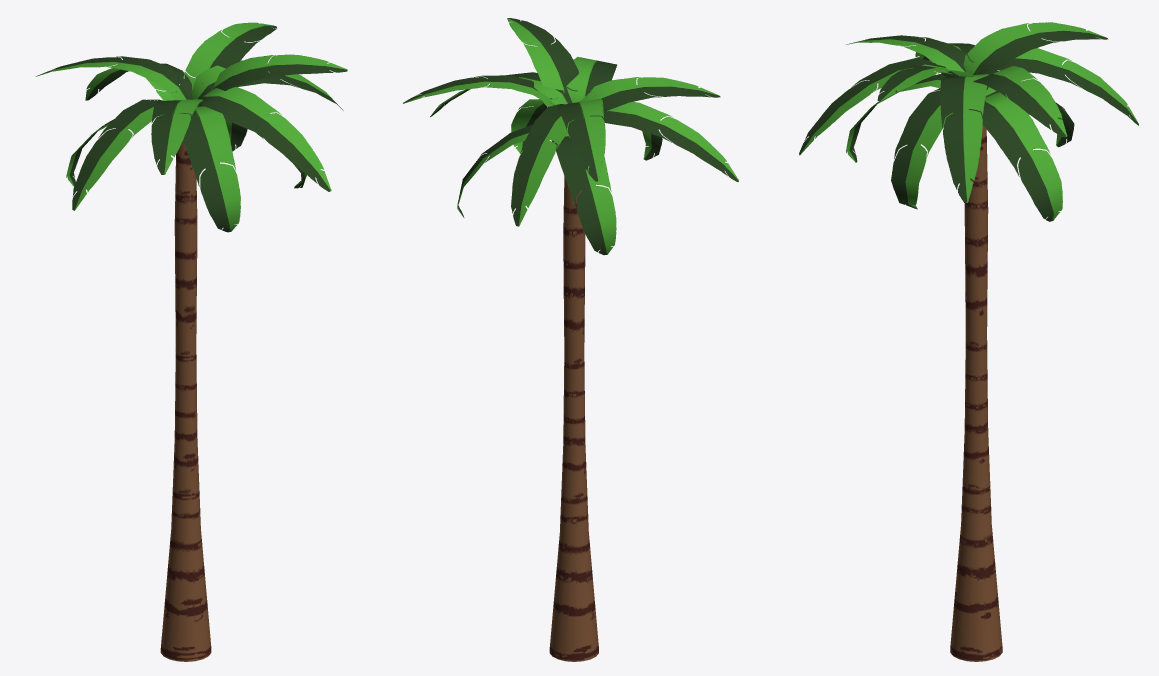
File: palm tree model 1 ver 4.FBX
3 views of the same model, side by side, from view 1: azimuth 30°, elevation 25°; view 2: azimuth 150°, elevation 25°; view 3: azimuth 270°, elevation 25° (orthographic). The views are drawn at different scales.
Visible parts, largest first — view 1: Cylinder001, Plane021, Plane024, Plane022, Plane034, Plane037, Plane035, Plane036, Plane018, Plane023; view 2: Cylinder001, Plane020, Plane023, Plane022, Plane037, Plane036, Plane035, Plane034, Plane024, Plane025, Plane018, Plane019; view 3: Cylinder001, Plane025, Plane018, Plane019, Plane036, Plane023, Plane034, Plane024, Plane035, Plane037, Plane021.
Boxes of the visible parts, x1,y1,x2,y2 form: Cylinder001: (160, 140, 211, 661); Plane021: (180, 106, 240, 232); Plane024: (197, 87, 331, 191); Plane022: (72, 99, 163, 210); Plane034: (184, 22, 276, 91); Plane037: (201, 54, 347, 105); Plane035: (151, 99, 202, 174); Plane036: (35, 56, 192, 100); Plane018: (191, 60, 343, 110); Plane023: (85, 63, 191, 100); Cylinder001: (549, 176, 598, 661); Plane020: (551, 136, 616, 255); Plane023: (511, 104, 574, 226); Plane022: (599, 101, 738, 181); Plane037: (507, 18, 578, 99); Plane036: (557, 98, 605, 181); Plane035: (579, 77, 720, 116); Plane034: (403, 75, 556, 106); Plane024: (566, 57, 616, 102); Plane025: (457, 124, 569, 217); Plane018: (430, 72, 572, 116); Plane019: (511, 99, 551, 154); Cylinder001: (950, 125, 1002, 661); Plane025: (969, 92, 1062, 221); Plane018: (939, 74, 989, 202); Plane019: (891, 88, 952, 209); Plane036: (963, 22, 1108, 74); Plane023: (978, 48, 1138, 125); Plane034: (973, 66, 1067, 137); Plane024: (799, 58, 956, 155); Plane035: (845, 35, 973, 74); Plane037: (877, 65, 973, 101); Plane021: (846, 73, 972, 162).
Bounding box in the file's own units: 207 × 376 × 201.
